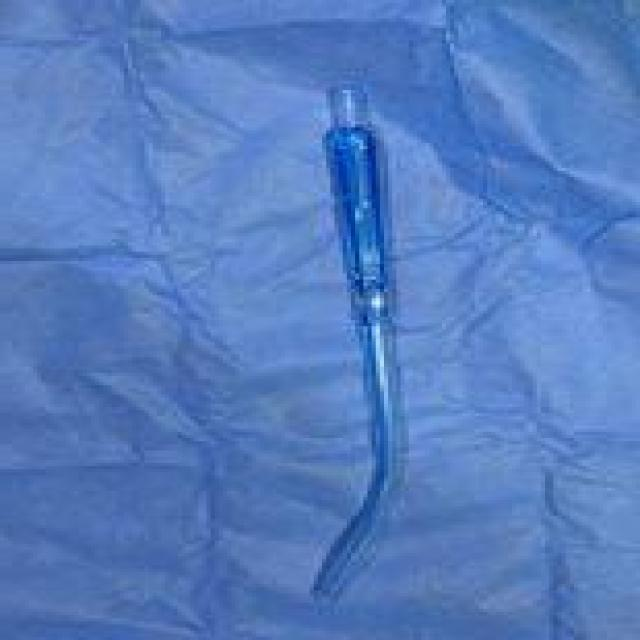Yankauer: (301, 81, 413, 609)
